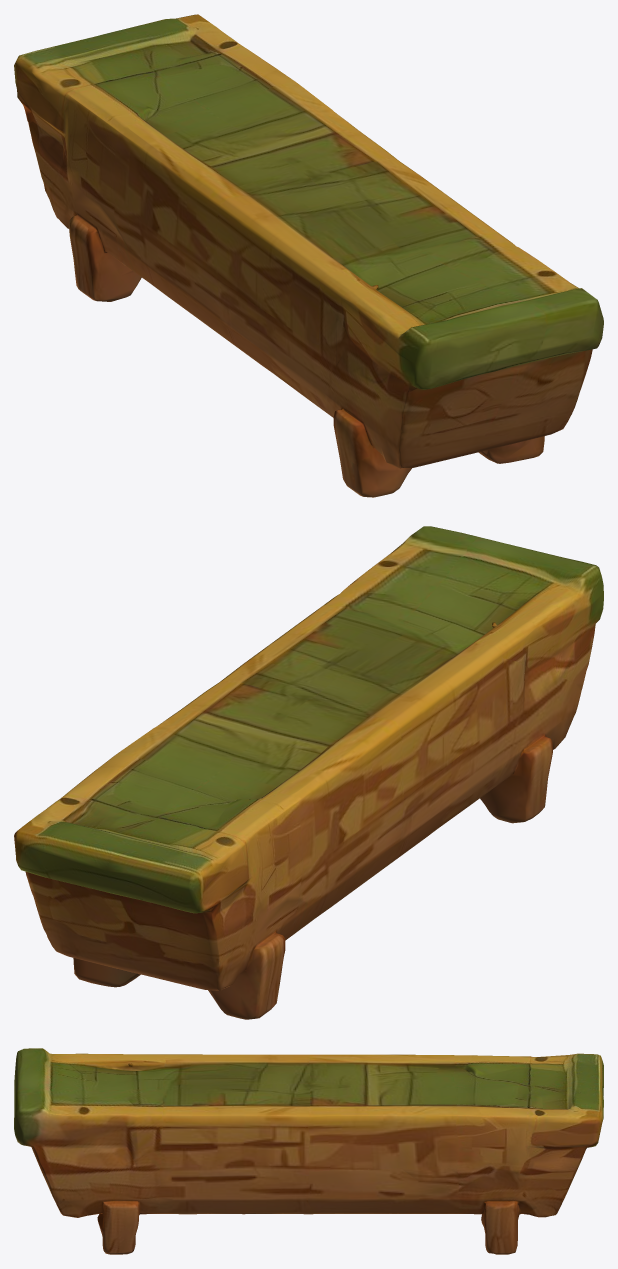
File: trough.glb
3 views of the same model, one above another, from view 1: azimuth 30°, elevation 25°; view 2: azimuth 150°, elevation 25°; view 3: azimuth 270°, elevation 25° (orthographic). The views are drawn at different scales.
Visible parts, largest first — view 1: tripo_node_55523fb7-76cd-44ba-987b-75f788f6d76c; view 2: tripo_node_55523fb7-76cd-44ba-987b-75f788f6d76c; view 3: tripo_node_55523fb7-76cd-44ba-987b-75f788f6d76c.
Boxes of the visible parts, x1,y1,x2,y2 form: tripo_node_55523fb7-76cd-44ba-987b-75f788f6d76c: [14, 14, 603, 497]; tripo_node_55523fb7-76cd-44ba-987b-75f788f6d76c: [14, 526, 603, 1019]; tripo_node_55523fb7-76cd-44ba-987b-75f788f6d76c: [14, 1048, 603, 1254].
Size of the model in its own units: 1.02 by 1 by 3.65.
1 material, 1 textured.
